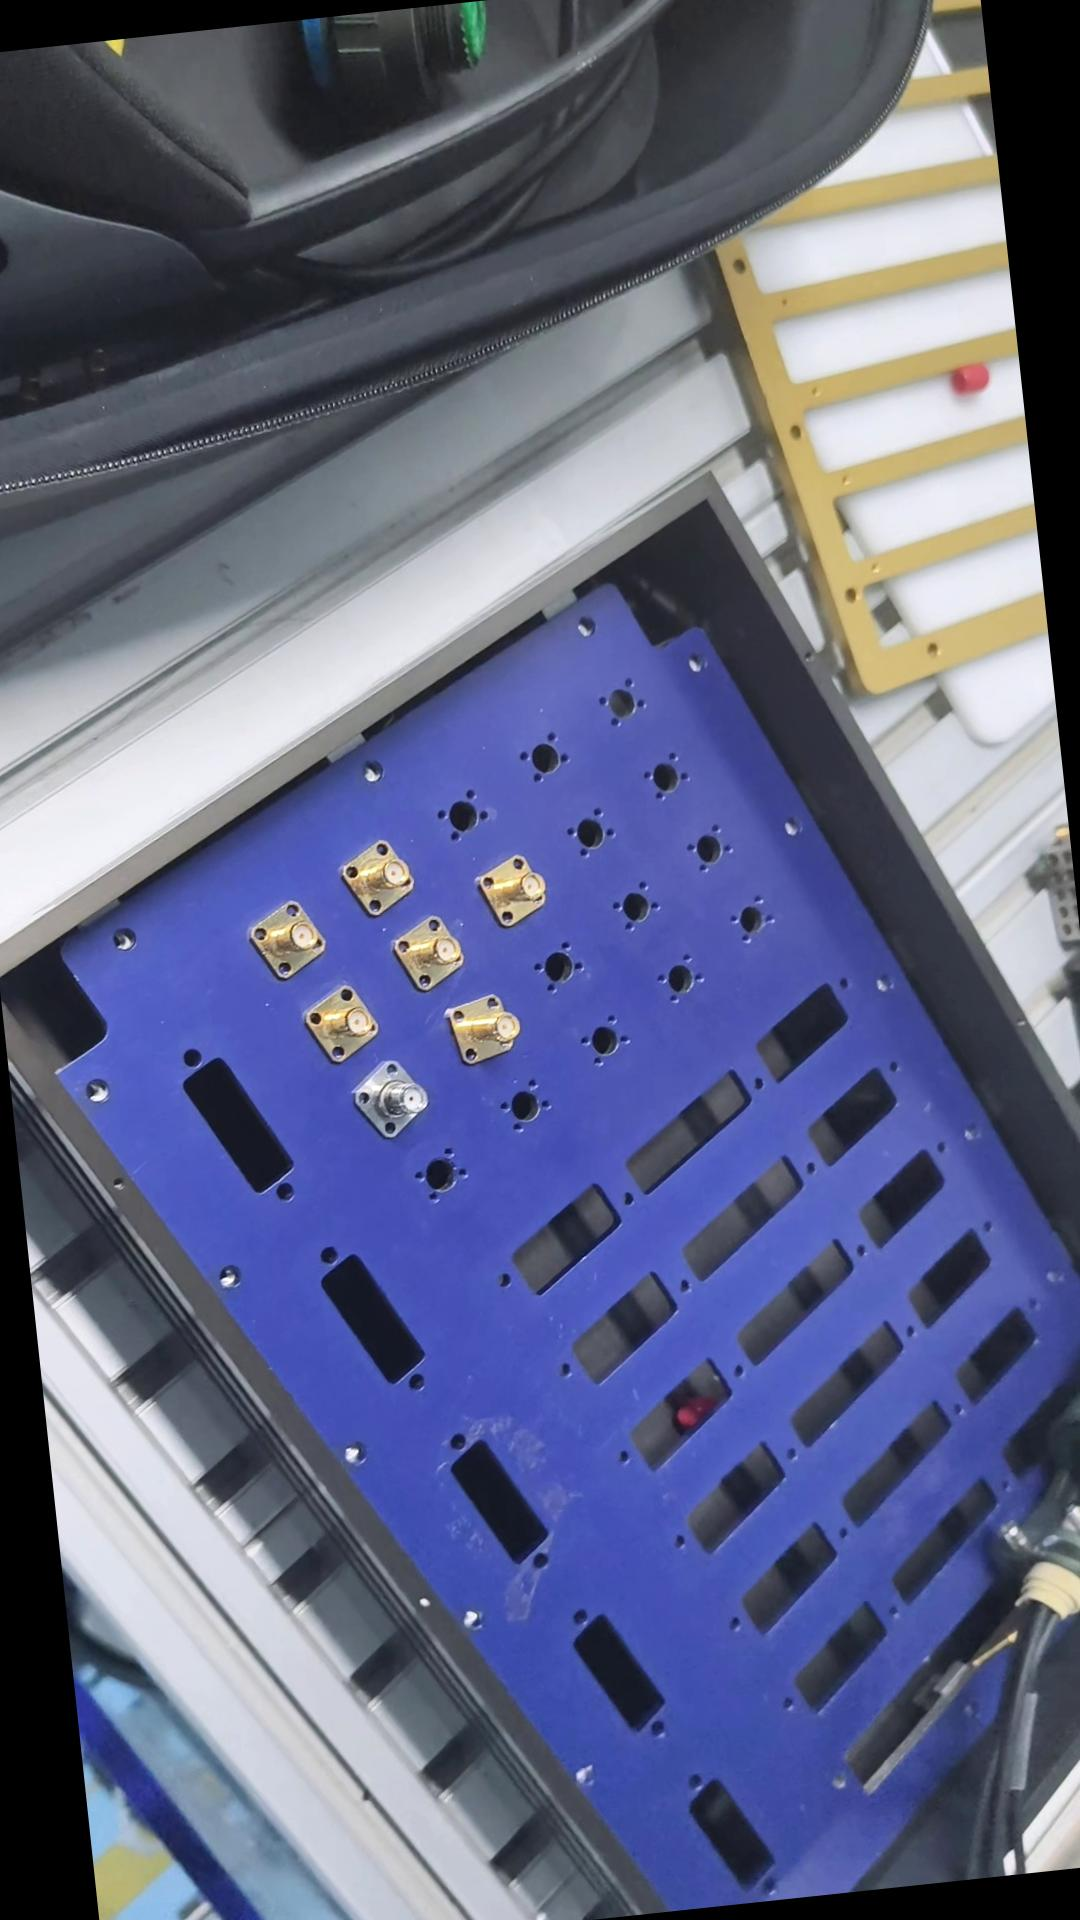SMA: (382, 909, 473, 996), (348, 1052, 438, 1139), (469, 848, 556, 934), (298, 981, 386, 1063), (245, 899, 335, 980), (448, 985, 531, 1069), (342, 832, 423, 916)
